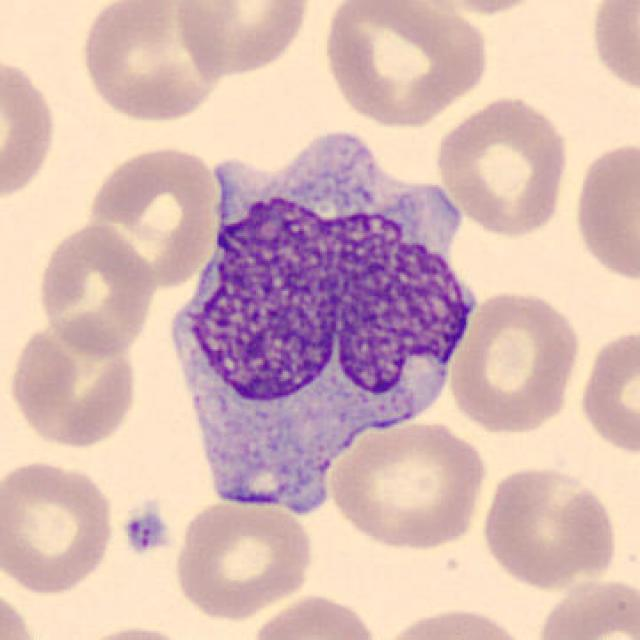Monocyte: (158, 114, 486, 514)
Platelets: (121, 506, 174, 557)
RBC: (316, 0, 494, 129), (323, 414, 489, 552), (432, 92, 572, 240), (445, 286, 583, 436), (84, 141, 222, 289), (76, 0, 233, 127), (6, 312, 142, 453), (478, 462, 622, 591), (170, 498, 316, 622), (32, 218, 158, 359), (0, 457, 119, 596), (170, 0, 314, 79), (569, 136, 640, 286), (0, 51, 60, 208), (574, 323, 640, 460), (532, 573, 638, 640), (247, 590, 380, 640), (375, 604, 535, 640), (587, 0, 638, 99), (0, 580, 44, 640), (69, 622, 199, 640), (418, 0, 554, 16)
